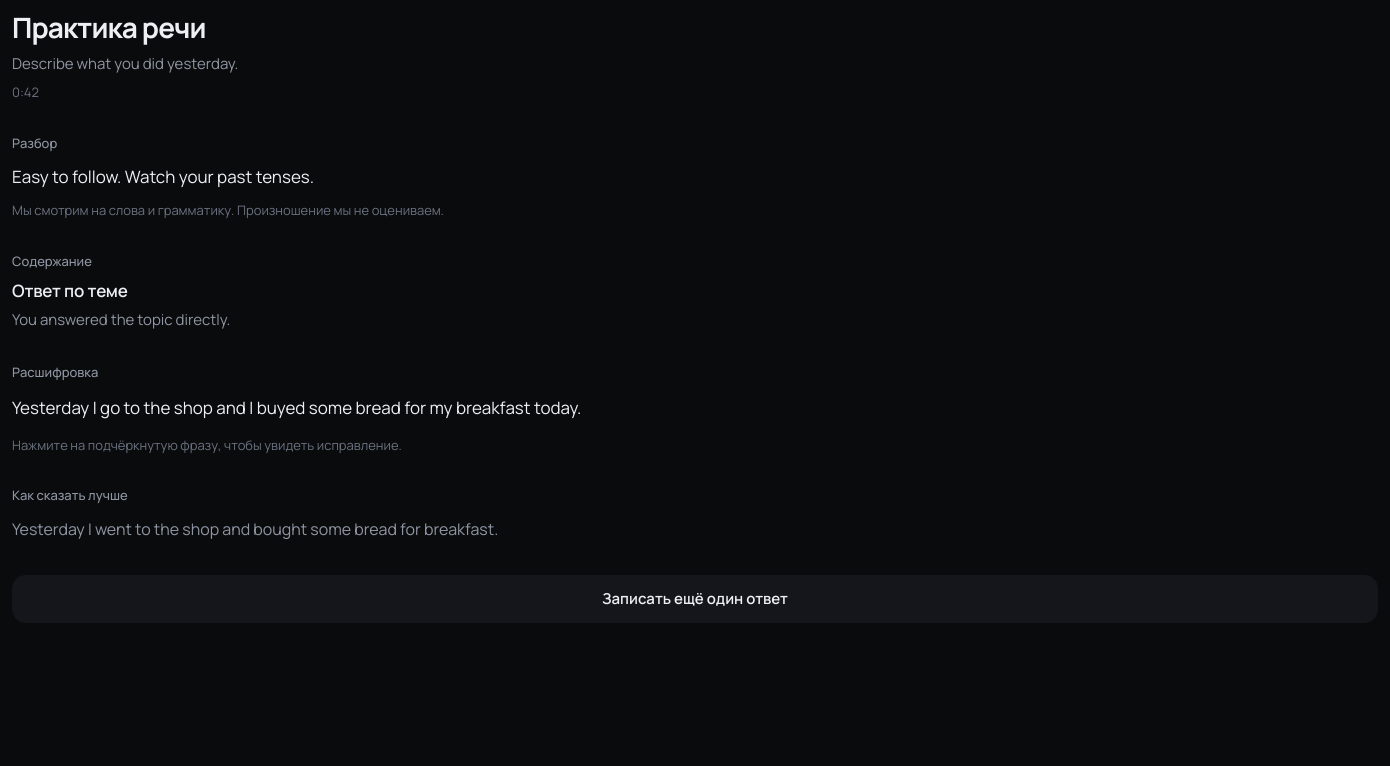
Scenario: the same review, read in Russian › translates the category and severity, keeping the canonical skill label
This screenshot has width=1390, height=766.
Click the button "buyed".
click(281, 407)  # box 257,396 -> 305,419
(page scrolled)
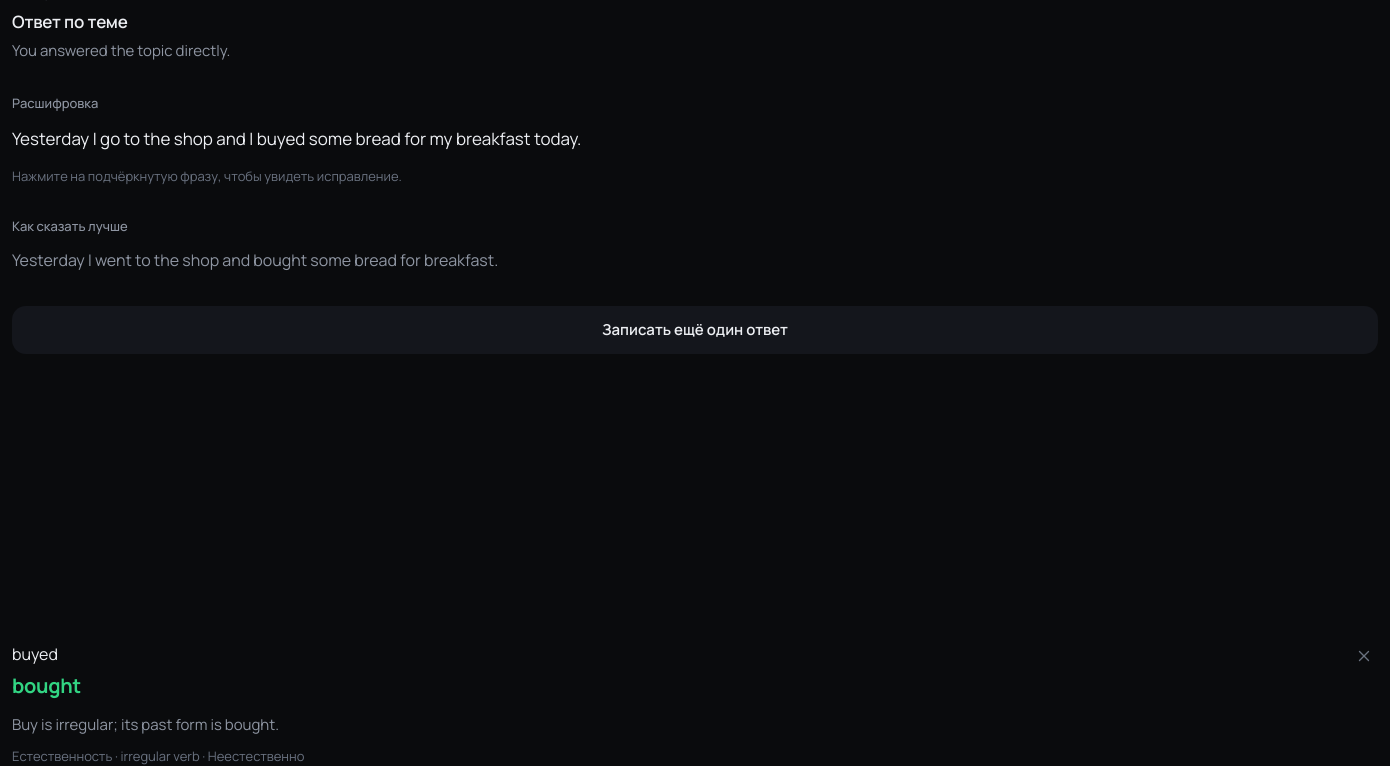
Now the text "Естественность · irregular verb · Неестественно" is shown, box 12,747 -> 304,765
